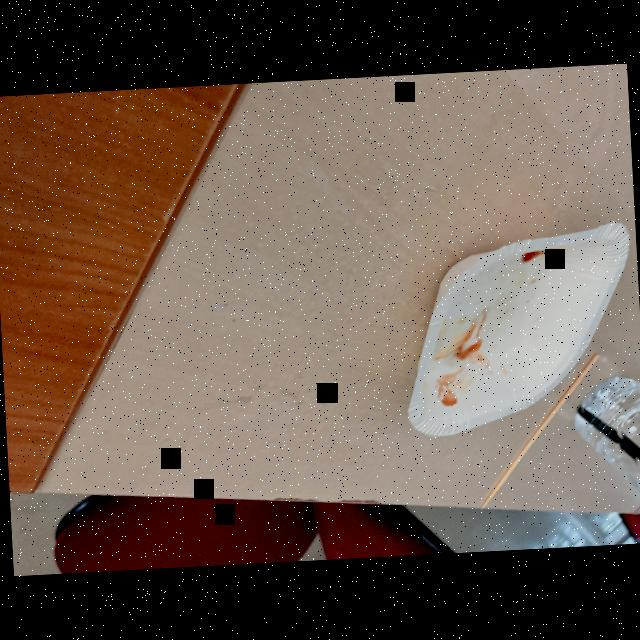cardboard_bowl: (389, 215, 640, 442)
stick: (462, 338, 618, 516)
